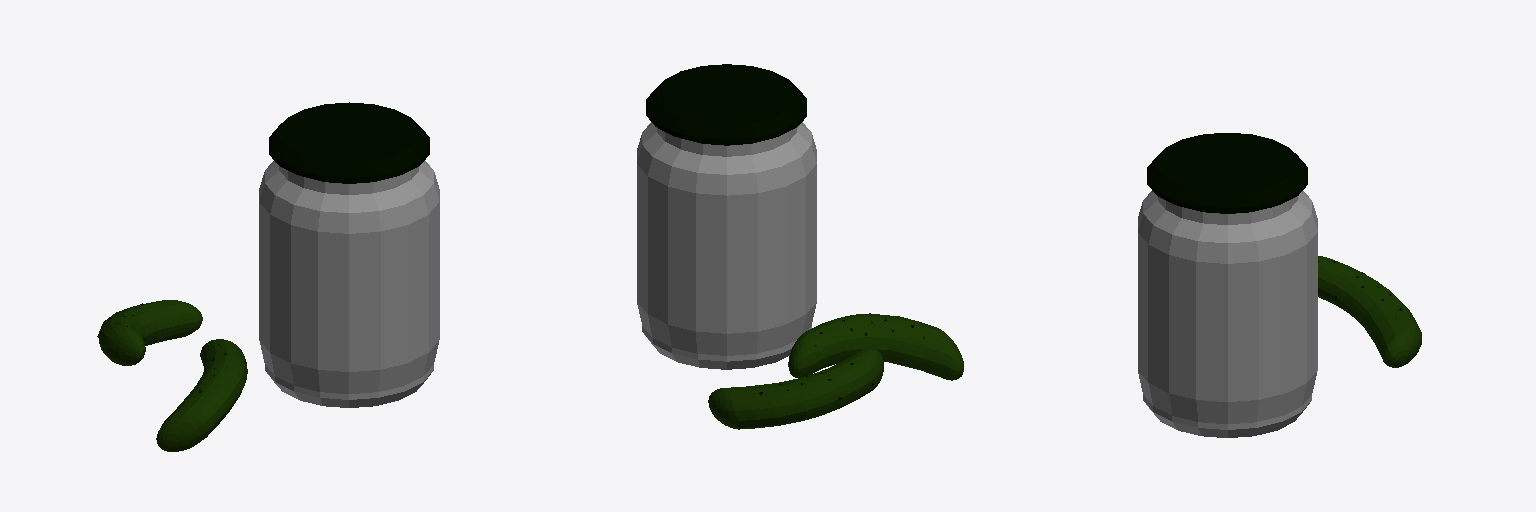
Rendered from Pickle_235.obj.
3 renders of one model, left to right at view 1: azimuth 30°, elevation 25°; view 2: azimuth 150°, elevation 25°; view 3: azimuth 270°, elevation 25°, orthographic.
Parts seen in each view (by area): view 1: Cylinder001, Capsule005, Capsule006; view 2: Cylinder001, Capsule005, Capsule006; view 3: Cylinder001, Capsule006.
Part boxes in pixels (x1,y1,x2,y2): Cylinder001: (259,102,439,407); Capsule005: (156,339,247,451); Capsule006: (97,300,202,365); Cylinder001: (637,64,816,369); Capsule005: (788,313,963,380); Capsule006: (708,348,883,429); Cylinder001: (1138,133,1317,437); Capsule006: (1318,256,1421,367).
Bounding box in the file's own units: 54.71 × 45.22 × 46.07.